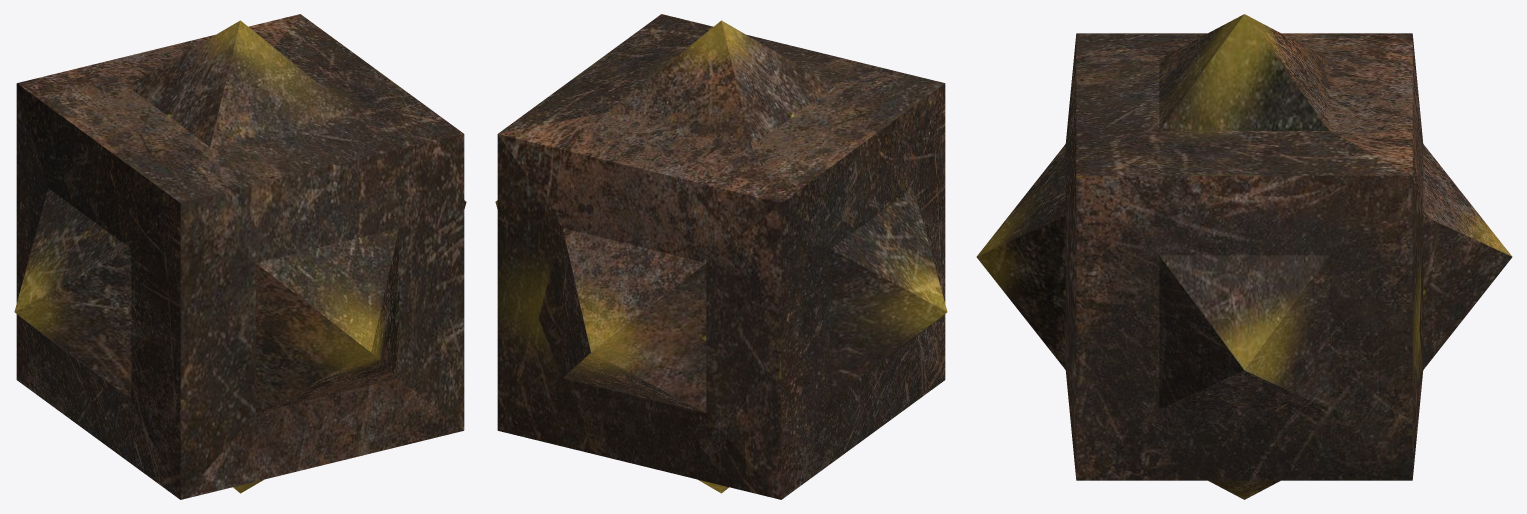
The model's file is objetopinchos.fbx.
3 renders of one model, left to right at view 1: azimuth 30°, elevation 25°; view 2: azimuth 150°, elevation 25°; view 3: azimuth 270°, elevation 25°, orthographic. The views are drawn at different scales.
Parts seen in each view (by area): view 1: Cube; view 2: Cube; view 3: Cube.
Part boxes in pixels (bbox=[...]): Cube: bbox=[14, 14, 466, 499]; Cube: bbox=[495, 14, 947, 499]; Cube: bbox=[976, 14, 1512, 499].
Size of the model in its own units: 350 by 350 by 350.
Materials: 1 (1 with a texture image).
